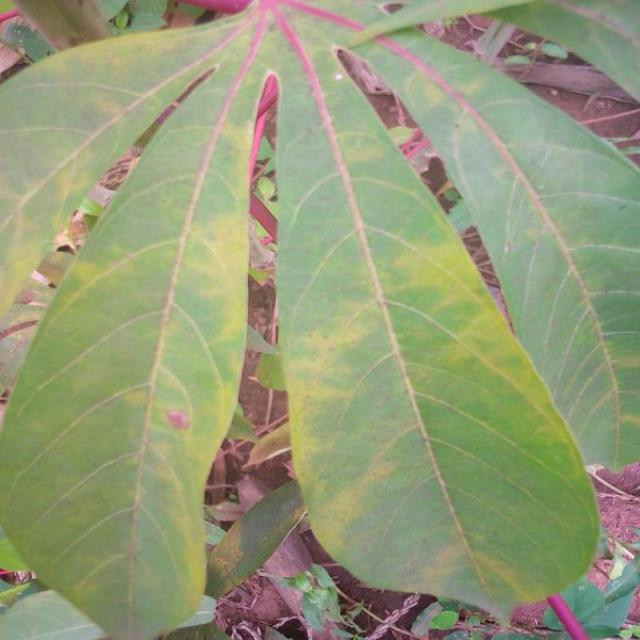cassava leaf: (2, 1, 638, 637), (273, 21, 603, 624), (2, 102, 255, 638)
